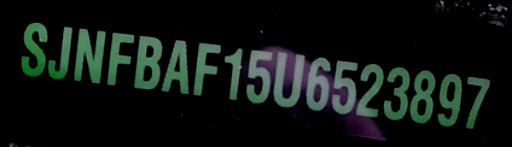letter: (72, 22, 106, 85), (190, 39, 224, 100), (160, 37, 192, 100), (104, 27, 136, 88), (18, 17, 48, 82), (132, 31, 164, 90), (272, 48, 304, 107), (354, 60, 386, 119), (330, 56, 360, 117), (434, 69, 464, 130), (463, 74, 493, 135), (408, 67, 436, 128), (382, 64, 410, 123), (46, 21, 72, 82), (303, 57, 331, 112), (246, 47, 272, 104), (221, 43, 243, 102)
